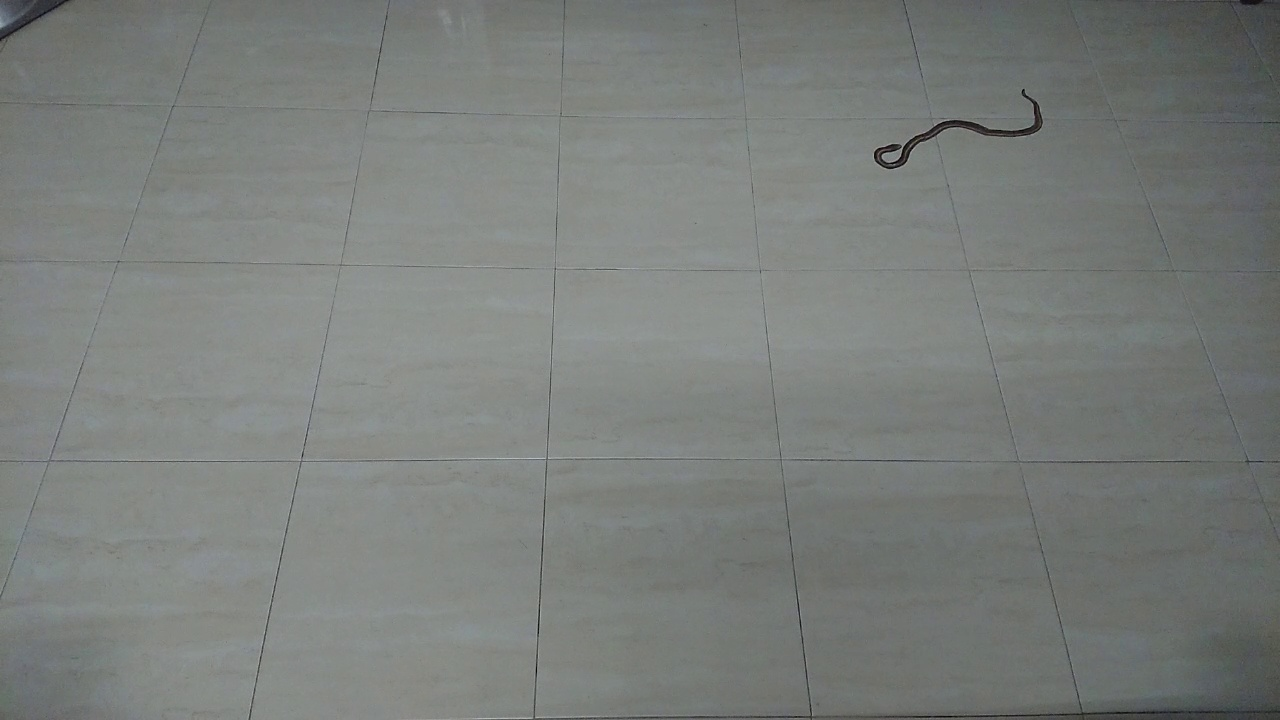snake: (857, 74, 1057, 183)
